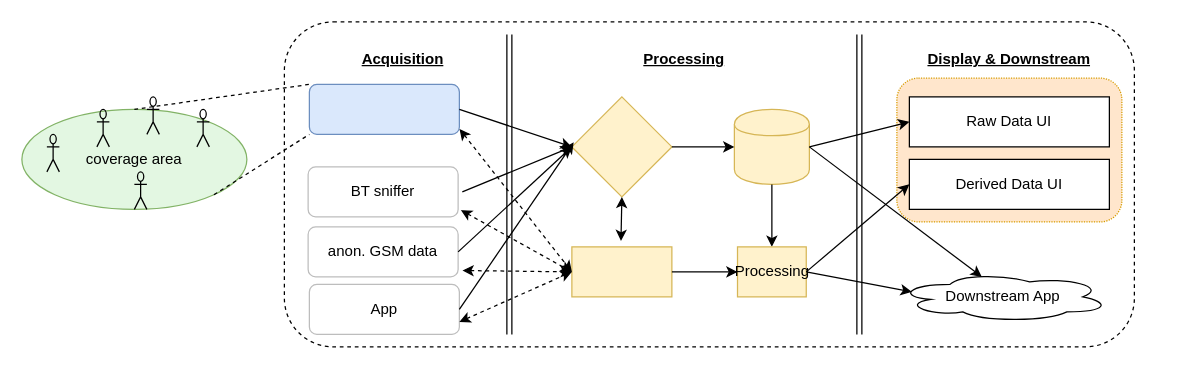
Some shapes in this 1181 by 369 pixel diagram are drawn without their labels. The shapes that lost their labels are listed below. From the top down, each one's centre as x and y in pixels, then its label:
the point at 383,108: WIFI sniffer AP
the point at 621,146: Aggregator
the point at 771,146: DB
the point at 621,271: System Management
